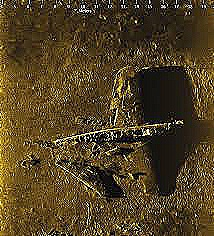aircraft: (38, 66, 187, 199)
